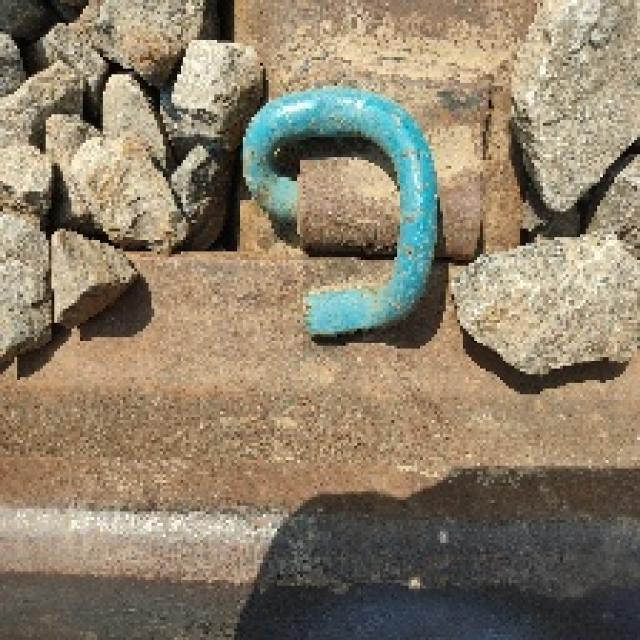Good Fasteners: (234, 0, 529, 331)
